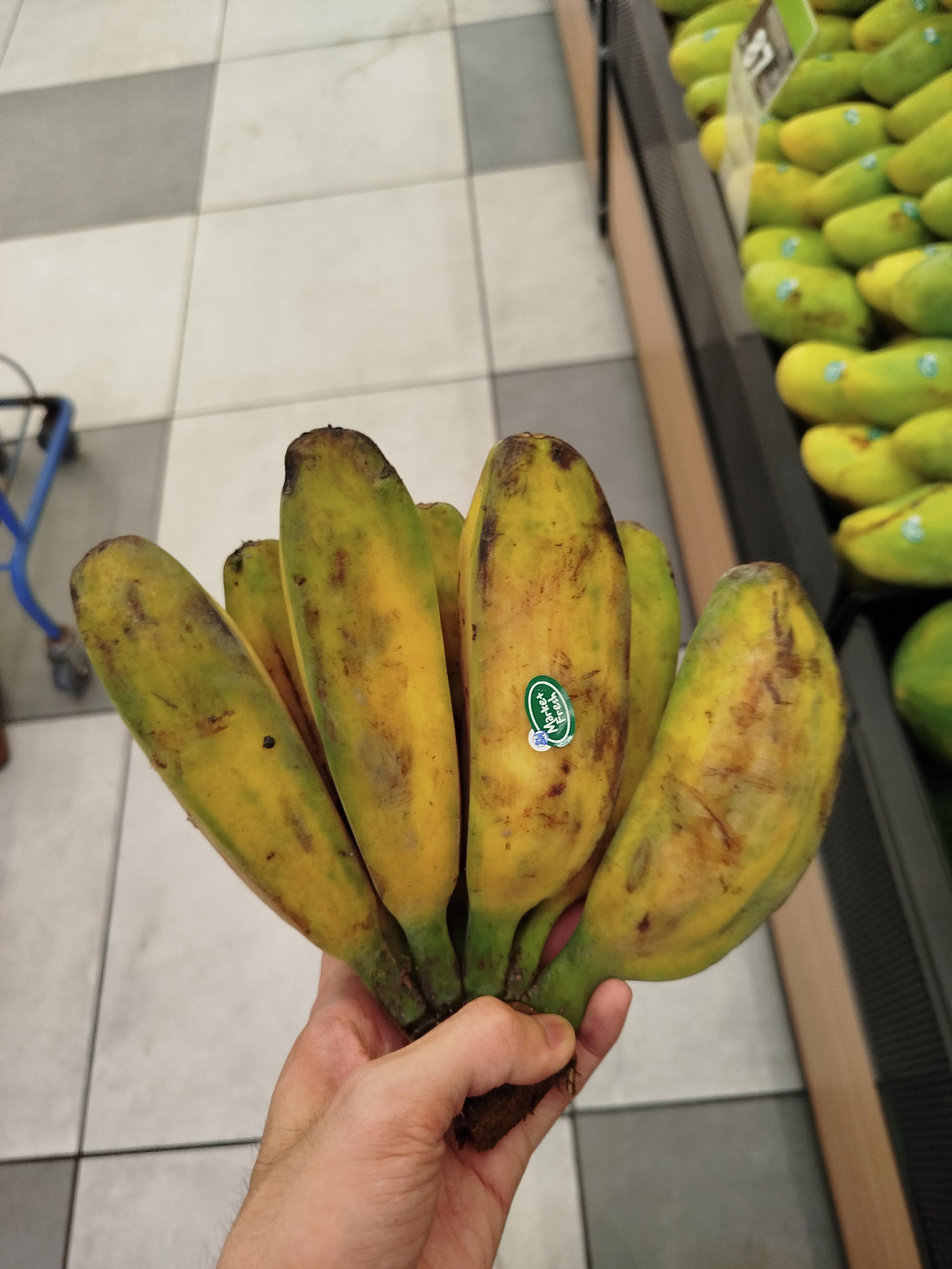underripe: (73, 427, 845, 980)
